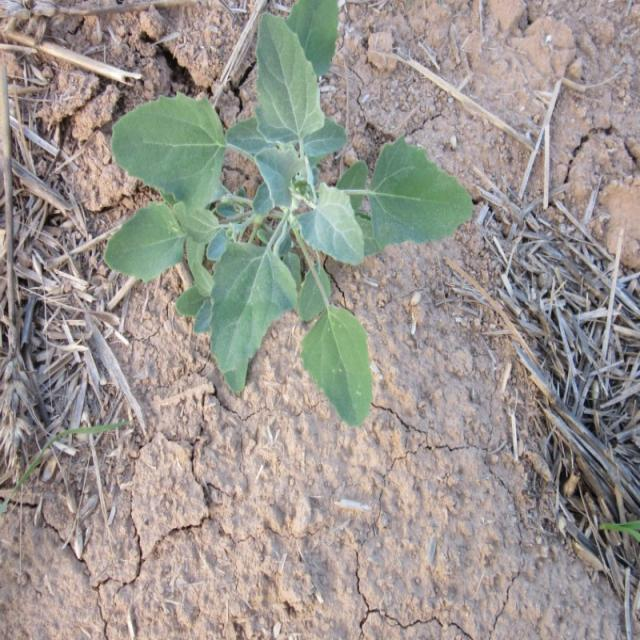ca: (105, 0, 476, 428)
